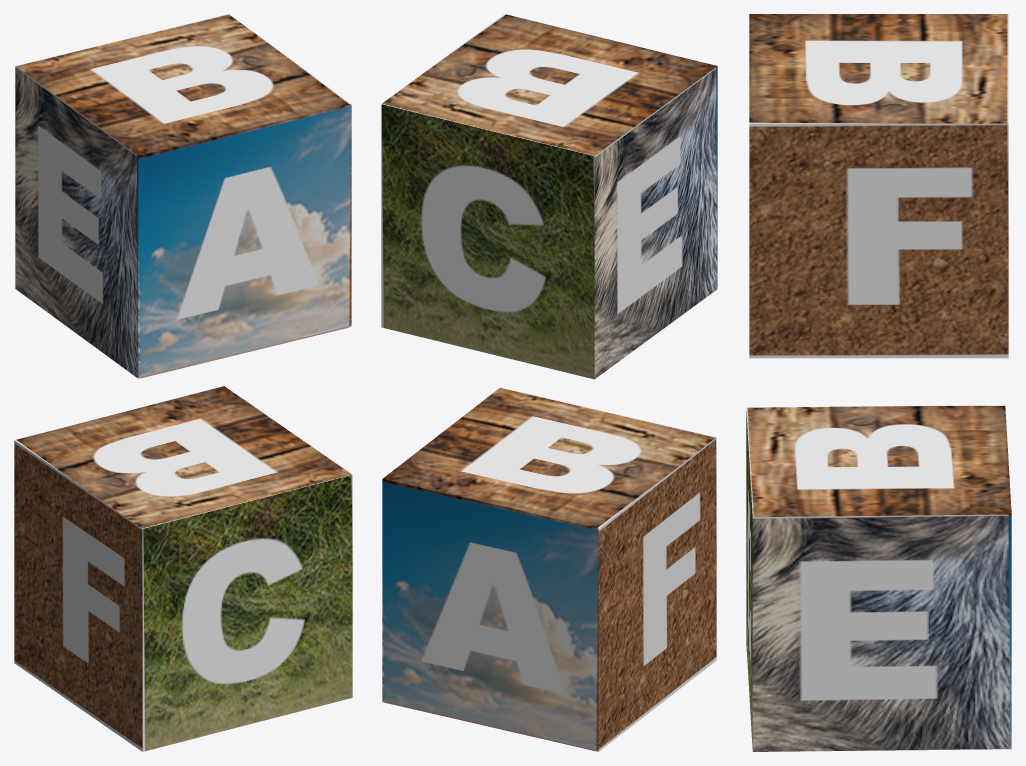
File: cUbic.glb
3 renders of one model, left to right at view 1: azimuth 30°, elevation 25°; view 2: azimuth 150°, elevation 25°; view 3: azimuth 270°, elevation 25°, orthographic. The views are drawn at different scales.
Visible parts, largest first — view 1: Cube, Cube.001; view 2: Cube.001, Cube; view 3: Cube, Cube.001.
Boxes of the visible parts, box(x1,y1,x2,y2) form: Cube: box(14, 386, 352, 751); Cube.001: box(15, 14, 351, 378); Cube.001: box(381, 14, 717, 379); Cube: box(382, 387, 716, 751); Cube: box(746, 405, 1011, 751); Cube.001: box(749, 14, 1008, 358).
Size of the model in its own units: 2.05 by 5.34 by 2.05.
Materials: 2 (2 with a texture image).
